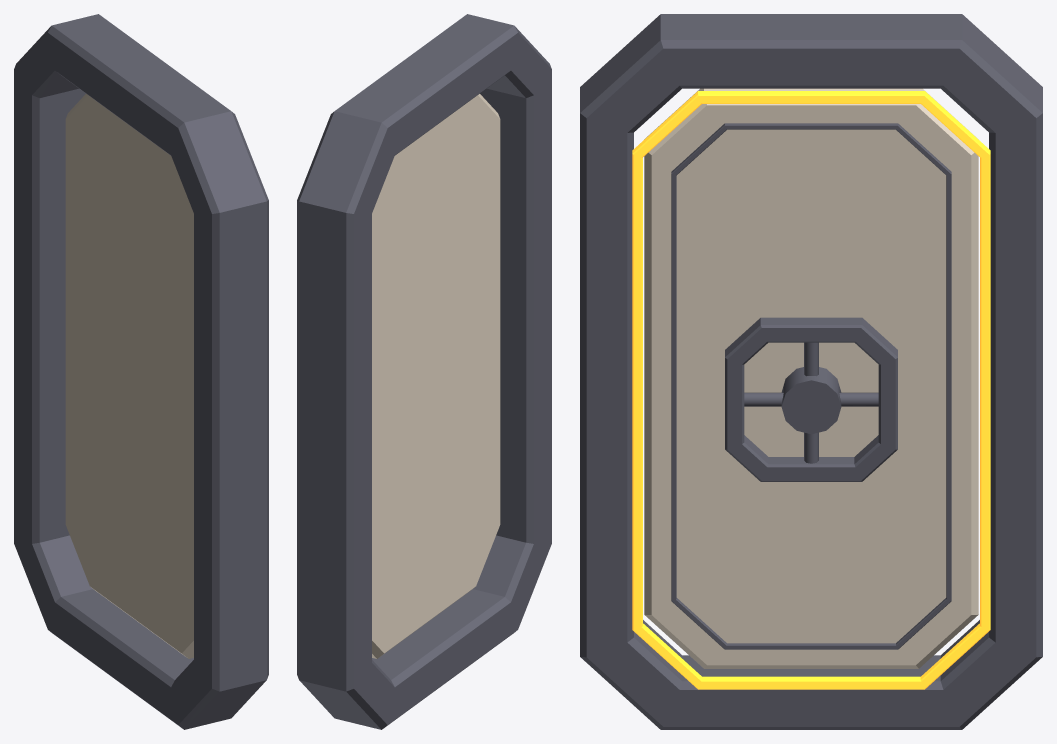
Rendered from int-door-inner.glb.
3 renders of one model, left to right at view 1: azimuth 30°, elevation 25°; view 2: azimuth 150°, elevation 25°; view 3: azimuth 270°, elevation 25°, orthographic. The views are drawn at different scales.
Visible parts, largest first — view 1: Slate octagonal hatch frame, Ivory inner hatch; view 2: Slate octagonal hatch frame, Ivory inner hatch; view 3: Ivory inner hatch, Slate octagonal hatch frame, Amber hatch gasket, hatch_wheel_smooth-structure_structure-gray, Inset ivory door seam.
Part boxes in pixels (left/top/right/bottom): Slate octagonal hatch frame: left=14, top=14, right=268, bottom=729; Ivory inner hatch: left=65, top=94, right=193, bottom=658; Slate octagonal hatch frame: left=297, top=14, right=551, bottom=729; Ivory inner hatch: left=372, top=94, right=500, bottom=658; Ivory inner hatch: left=644, top=88, right=978, bottom=668; Slate octagonal hatch frame: left=580, top=14, right=1042, bottom=729; Amber hatch gasket: left=632, top=91, right=990, bottom=689; hatch_wheel_smooth-structure_structure-gray: left=725, top=317, right=897, bottom=481; Inset ivory door seam: left=671, top=123, right=951, bottom=649.
Bounding box in the file's own units: 0.405 × 2.55 × 1.55.
